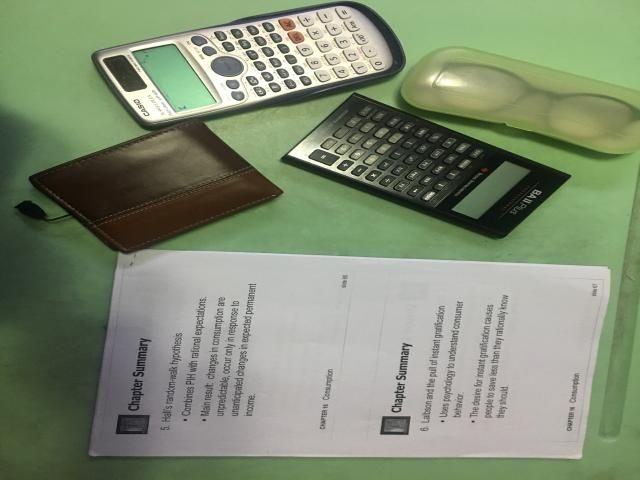Glasses: (399, 48, 640, 155)
Wallet: (28, 121, 283, 256)
paper: (87, 251, 615, 462)
